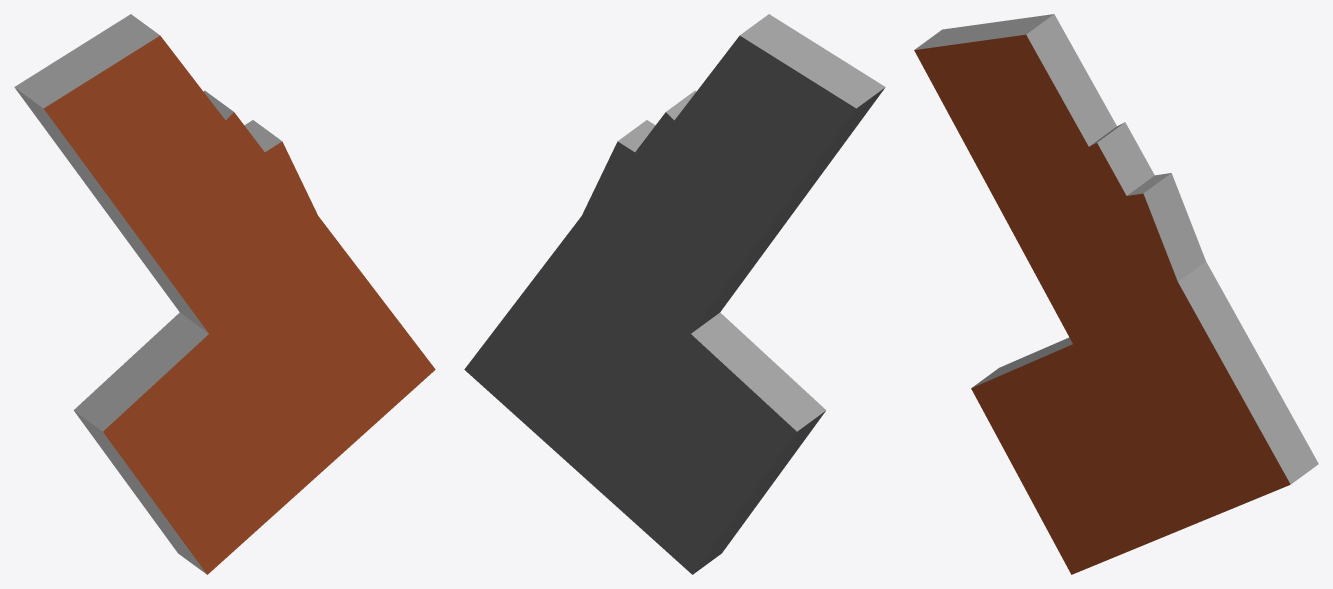
Rendered from construction_0788_assumed_A_Casa_h6m.obj.
3 renders of one model, left to right at view 1: azimuth 30°, elevation 25°; view 2: azimuth 150°, elevation 25°; view 3: azimuth 330°, elevation 25°, orthographic. The views are drawn at different scales.
Visible parts, largest first — view 1: construction_0788_assumed_A_Casa; view 2: construction_0788_assumed_A_Casa; view 3: construction_0788_assumed_A_Casa.
Boxes of the visible parts, x1,y1,x2,y2 form: construction_0788_assumed_A_Casa: (14, 14, 435, 574); construction_0788_assumed_A_Casa: (464, 14, 885, 574); construction_0788_assumed_A_Casa: (914, 14, 1318, 574).
Bounding box in the file's own units: 46.29 × 62.15 × 6.
